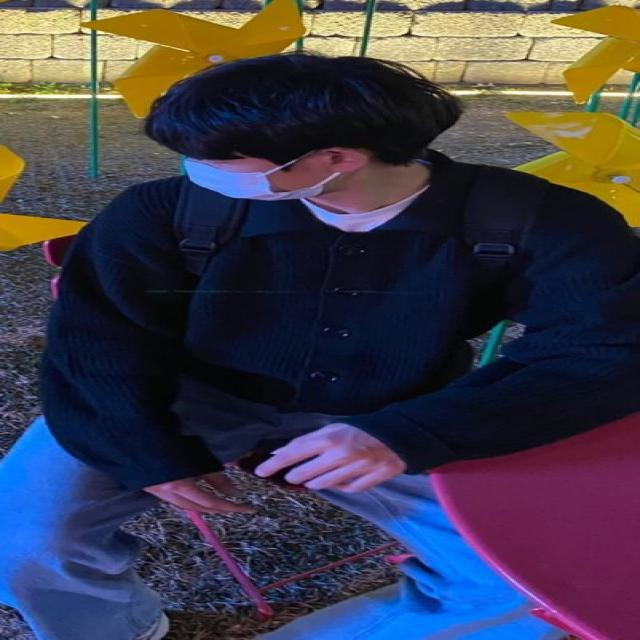cardigan: (28, 157, 640, 484)
denimpants: (0, 411, 571, 640)
